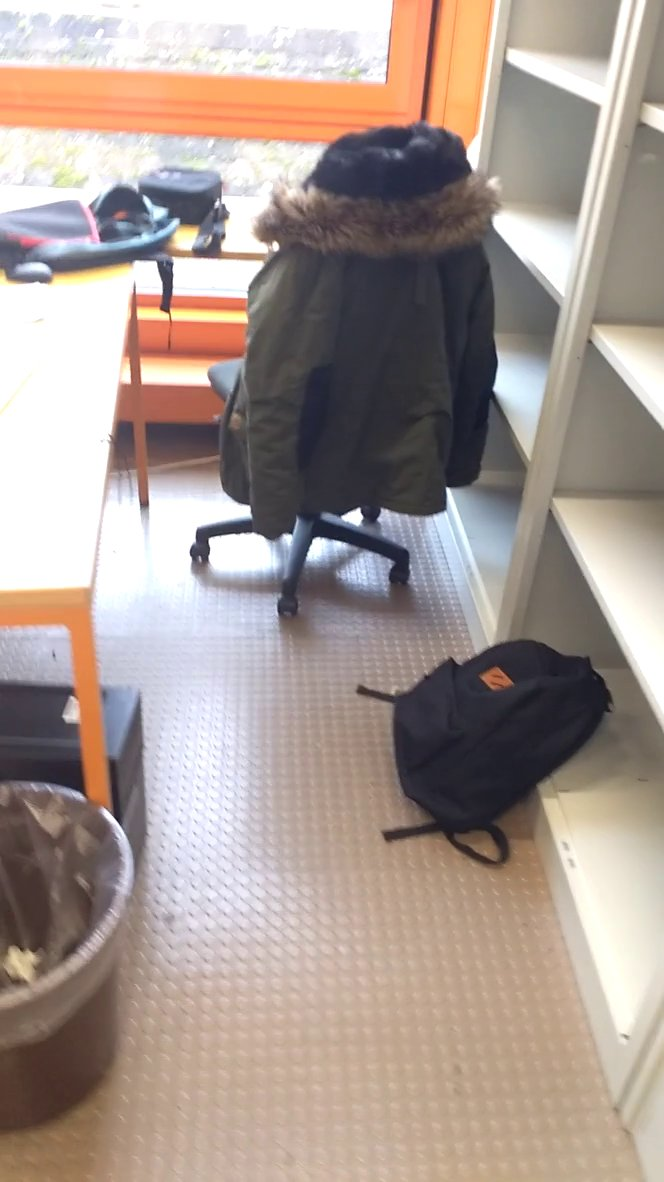bag: (344, 633, 620, 874)
